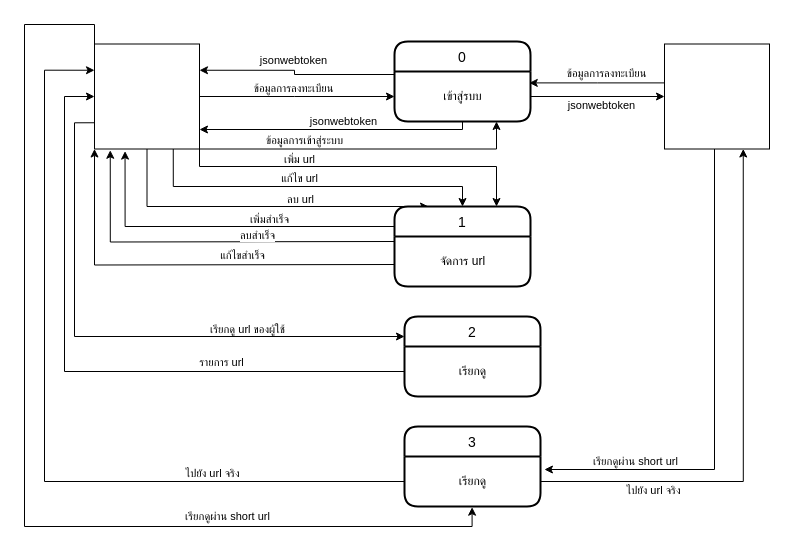
Image size: 787x552. Some labels were removed from this diagram. The centre of each missing label's shape, as x and y in pixels:
"ผู้ใช้ที่ยังไม่ลงทะเบียน" goes at pixel 717 96.
"ผู้ใช้ที่ลงทะเบียนแล้ว" goes at pixel 147 96.
